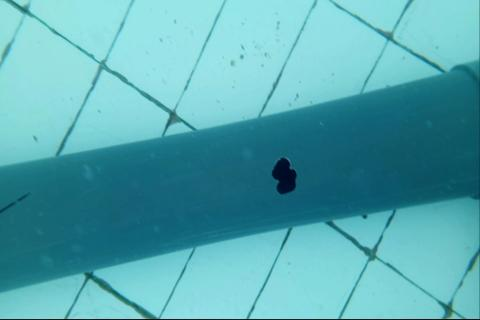kebocoran: (270, 156, 299, 197)
keretakan: (0, 191, 33, 214)
